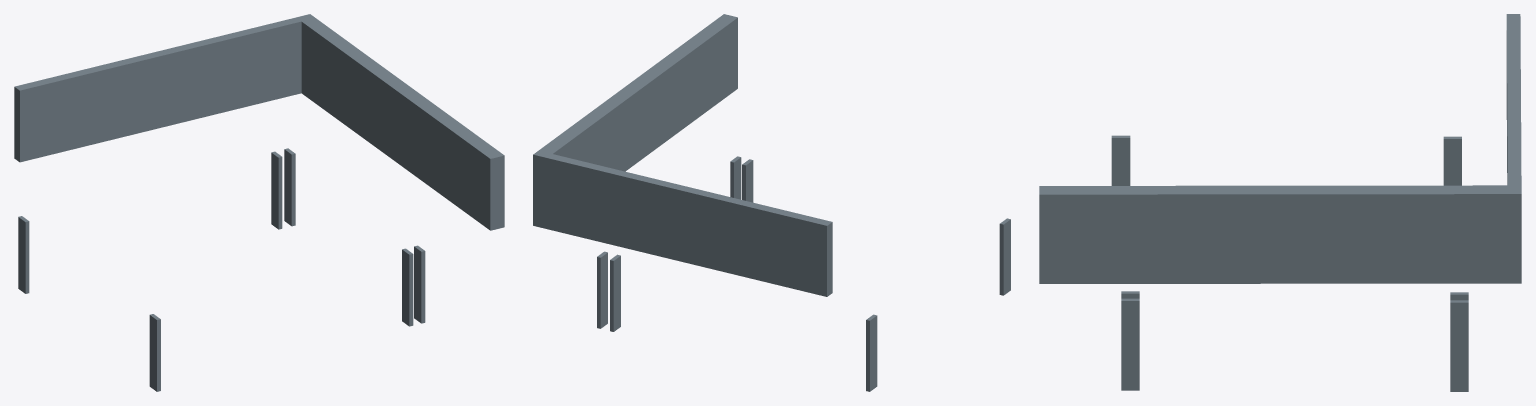
The picture shows the model from 3 angles, left to right: view 1: azimuth 30°, elevation 25°; view 2: azimuth 150°, elevation 25°; view 3: azimuth 270°, elevation 25°; orthographic projection. The views are drawn at different scales.
Visible parts, largest first — view 1: Cube.006, LED Stele.012, LED Stele.013, LED Stele.014, LED Stele.015, LED Stele.017, LED Stele.016; view 2: Cube.006, LED Stele.016, LED Stele.017, LED Stele.012, LED Stele.013, LED Stele.015, LED Stele.014; view 3: Cube.006, LED Stele.015, LED Stele.012, LED Stele.016, LED Stele.017.
Part boxes in pixels (<box>): Cube.006: <box>14,14,504,230</box>; LED Stele.012: <box>284,148,295,226</box>; LED Stele.013: <box>271,151,282,229</box>; LED Stele.014: <box>402,248,413,326</box>; LED Stele.015: <box>414,245,425,323</box>; LED Stele.017: <box>18,216,29,293</box>; LED Stele.016: <box>149,314,160,391</box>; Cube.006: <box>533,14,832,296</box>; LED Stele.016: <box>999,218,1010,295</box>; LED Stele.017: <box>866,314,877,391</box>; LED Stele.012: <box>597,251,607,328</box>; LED Stele.013: <box>610,254,620,331</box>; LED Stele.015: <box>730,156,741,199</box>; LED Stele.014: <box>742,159,753,202</box>; Cube.006: <box>1039,14,1521,283</box>; LED Stele.015: <box>1121,298,1139,390</box>; LED Stele.012: <box>1450,300,1468,391</box>; LED Stele.016: <box>1111,135,1130,185</box>; LED Stele.017: <box>1443,136,1461,185</box>.
Bounding box in the file's own units: 9.28 × 5.01 × 9.77.
